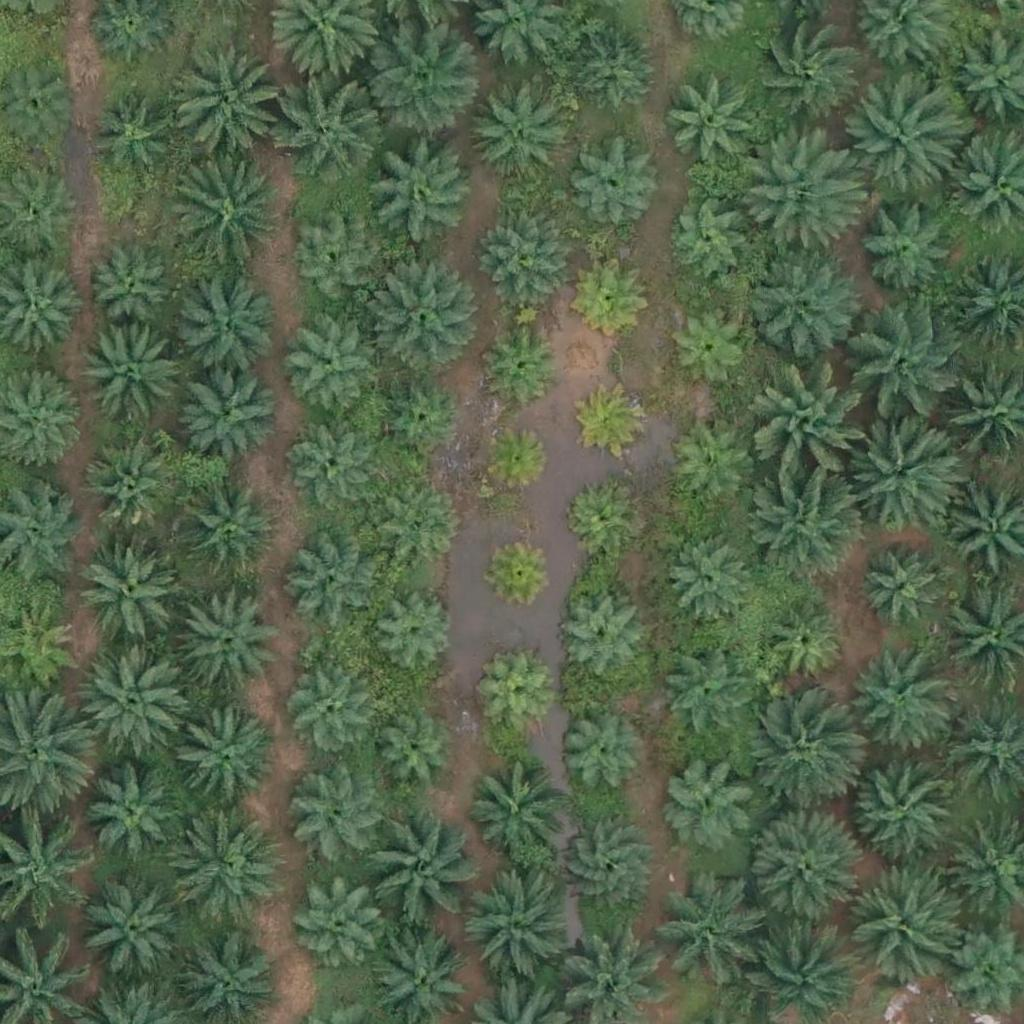Kelapa_Sawit: (169, 48, 282, 162), (847, 749, 960, 862), (744, 810, 857, 923), (167, 707, 280, 820), (168, 816, 281, 929), (78, 873, 191, 986), (852, 309, 965, 422), (751, 467, 864, 580), (364, 25, 477, 138), (365, 135, 478, 248), (366, 258, 479, 371), (275, 71, 388, 184), (165, 162, 278, 275), (461, 873, 573, 987), (851, 86, 963, 200), (757, 371, 869, 485), (840, 650, 952, 763), (845, 867, 957, 980), (742, 701, 854, 814), (359, 812, 471, 925), (79, 651, 191, 764), (847, 414, 959, 527), (744, 245, 856, 358), (744, 130, 856, 243), (748, 17, 860, 130), (652, 885, 752, 986), (465, 761, 565, 862), (289, 766, 389, 867), (178, 586, 278, 687), (85, 766, 185, 867), (852, 191, 952, 292), (663, 75, 763, 176), (467, 79, 567, 180), (174, 278, 274, 379), (179, 361, 279, 462), (79, 534, 179, 635), (178, 478, 278, 579), (285, 530, 385, 631), (81, 326, 181, 427), (659, 751, 759, 851), (557, 819, 657, 919), (759, 600, 847, 688), (554, 593, 642, 681), (280, 665, 368, 753), (376, 373, 464, 461), (376, 491, 464, 579), (859, 545, 947, 633), (84, 87, 172, 175), (662, 301, 750, 389), (667, 424, 755, 512), (286, 329, 374, 417), (287, 421, 375, 509), (89, 237, 177, 325), (659, 650, 746, 739), (556, 709, 643, 797), (372, 589, 459, 677), (369, 713, 456, 801), (295, 881, 382, 969), (570, 29, 657, 117), (665, 199, 752, 287), (666, 533, 753, 621), (480, 209, 567, 297), (567, 140, 654, 228), (292, 218, 379, 306), (84, 443, 171, 531), (561, 479, 636, 555), (478, 659, 553, 735), (483, 532, 558, 608), (576, 383, 651, 459), (486, 325, 561, 400), (478, 422, 553, 497), (576, 261, 651, 336)
